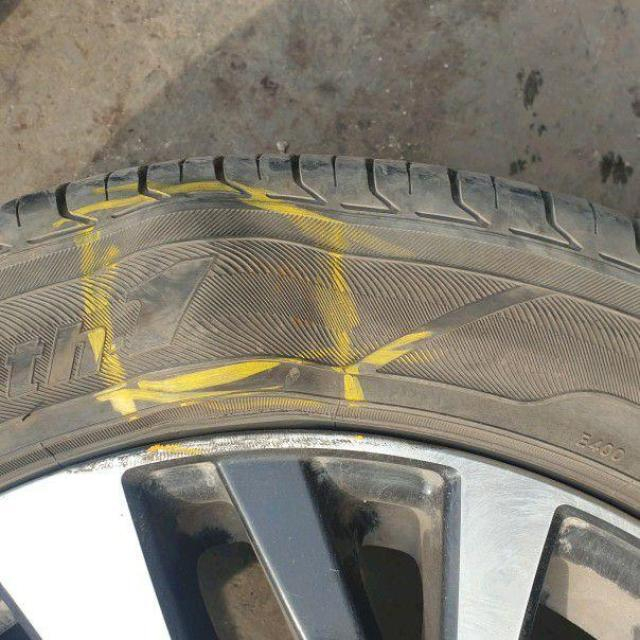Bulge: (102, 158, 337, 416)
